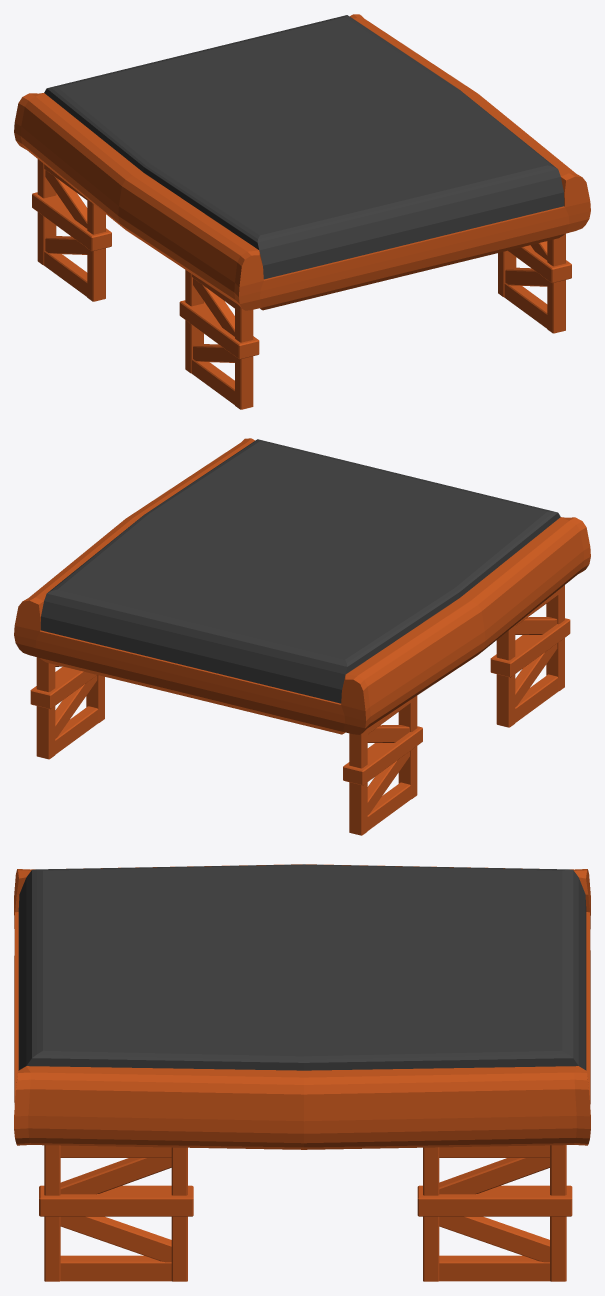
Rendered from MODEL_ENV_Conveyor_Small.fbx.
3 views of the same model, one above another, from view 1: azimuth 30°, elevation 25°; view 2: azimuth 150°, elevation 25°; view 3: azimuth 270°, elevation 25° (orthographic). The views are drawn at different scales.
Parts seen in each view (by area): view 1: Conveyor_Small; view 2: Conveyor_Small; view 3: Conveyor_Small.
Part boxes in pixels (left/top/right/bottom): Conveyor_Small: left=14, top=14, right=590, bottom=409; Conveyor_Small: left=14, top=438, right=590, bottom=835; Conveyor_Small: left=14, top=864, right=590, bottom=1281.
Bounding box in the file's own units: 385 × 171 × 408.
